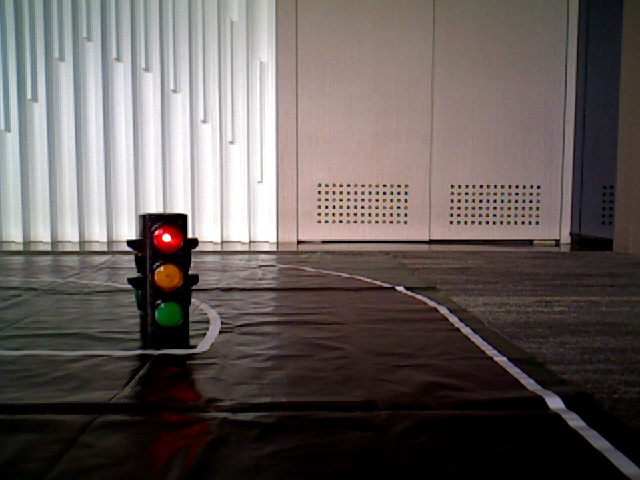red: (137, 218, 187, 334)
